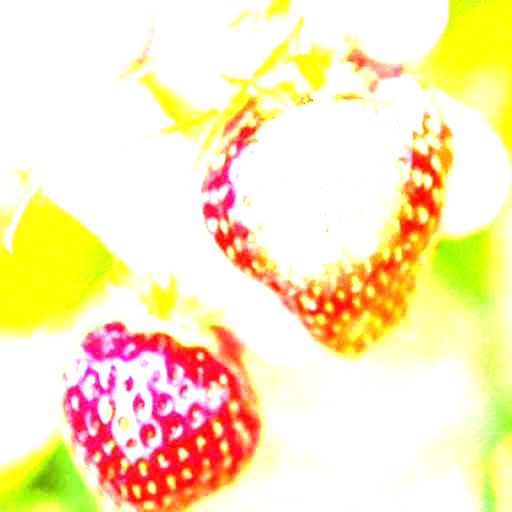Gray Mold: (241, 98, 401, 286)
